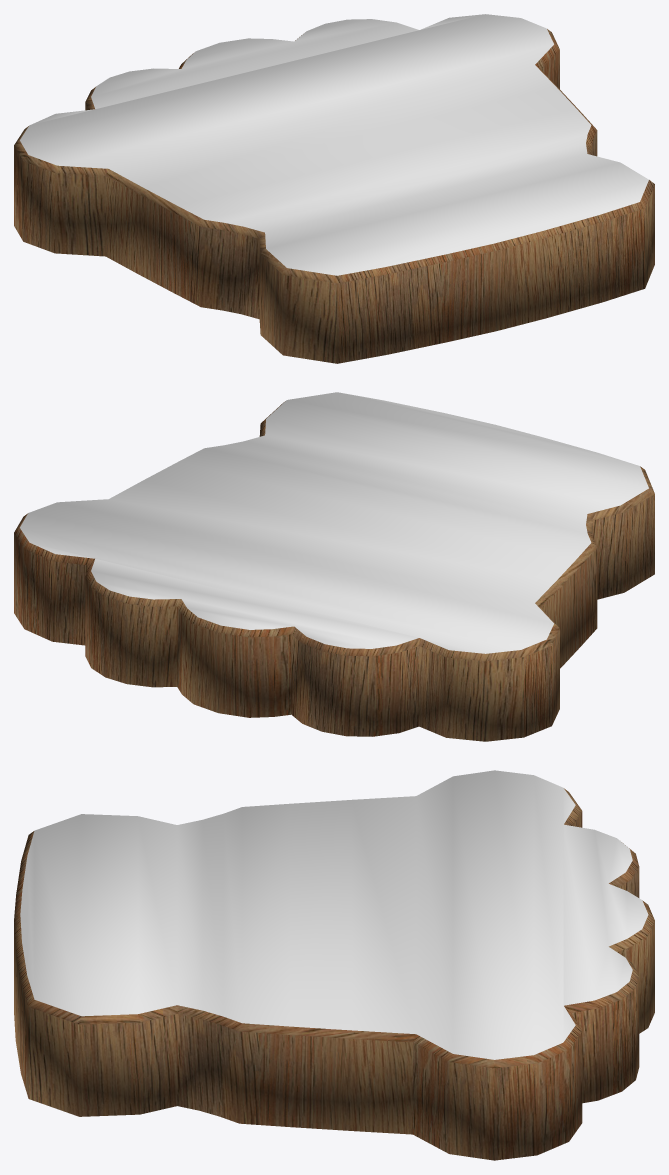
The model's file is flat3dpieces-queen.gltf.
3 renders of one model, top to bottom at view 1: azimuth 30°, elevation 25°; view 2: azimuth 150°, elevation 25°; view 3: azimuth 270°, elevation 25°, orthographic. The views are drawn at different scales.
Bounding box in the file's own units: 1.65 × 0.255 × 1.51.
Materials: 2 (1 with a texture image).
